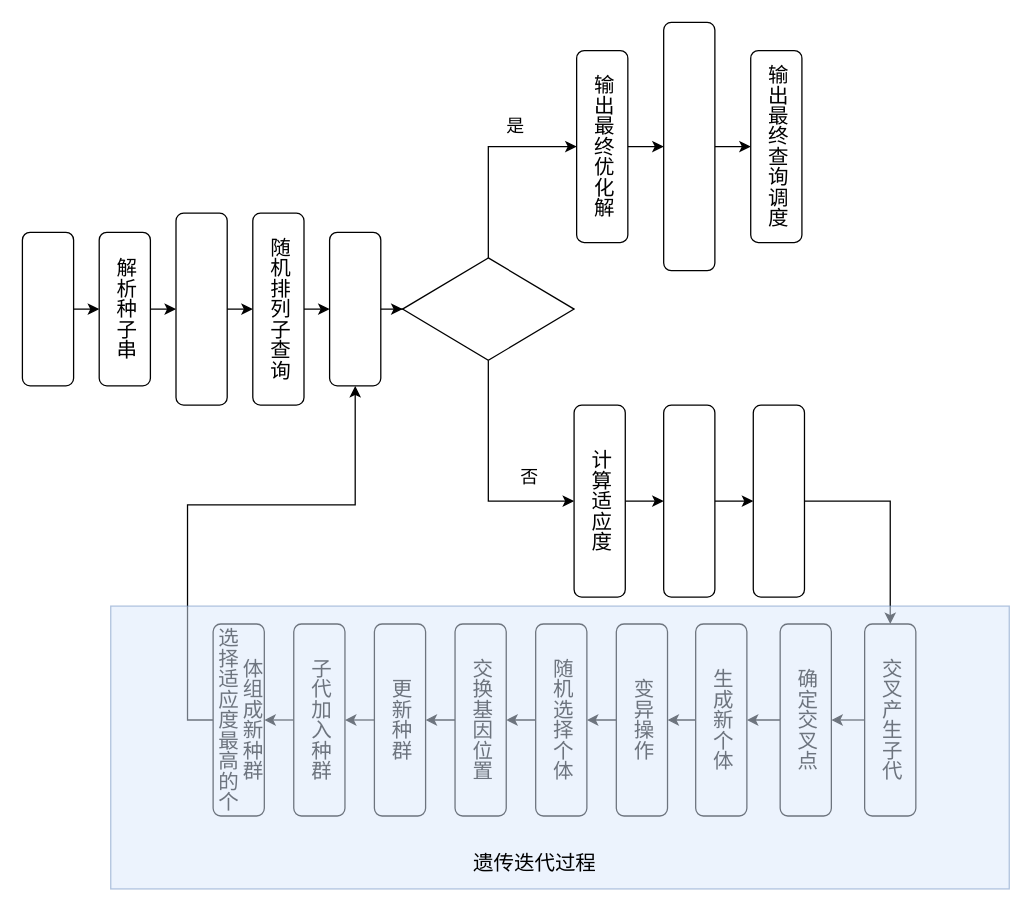
Some shapes in this 1032 by 911 pixel diagram are drawn without their labels. The shapes that lost their labels are listed below. From the top down, each one's centre as x and y in pixels, then its label:
the point at 688,146: 找到适应度最高的个体
the point at 47,308: 开始
the point at 201,308: 生成初始种群
the point at 354,308: 生成若干个体
the point at 487,308: 达到最大代数？
the point at 688,500: 执行个体查询
the point at 778,500: 记录执行时间
